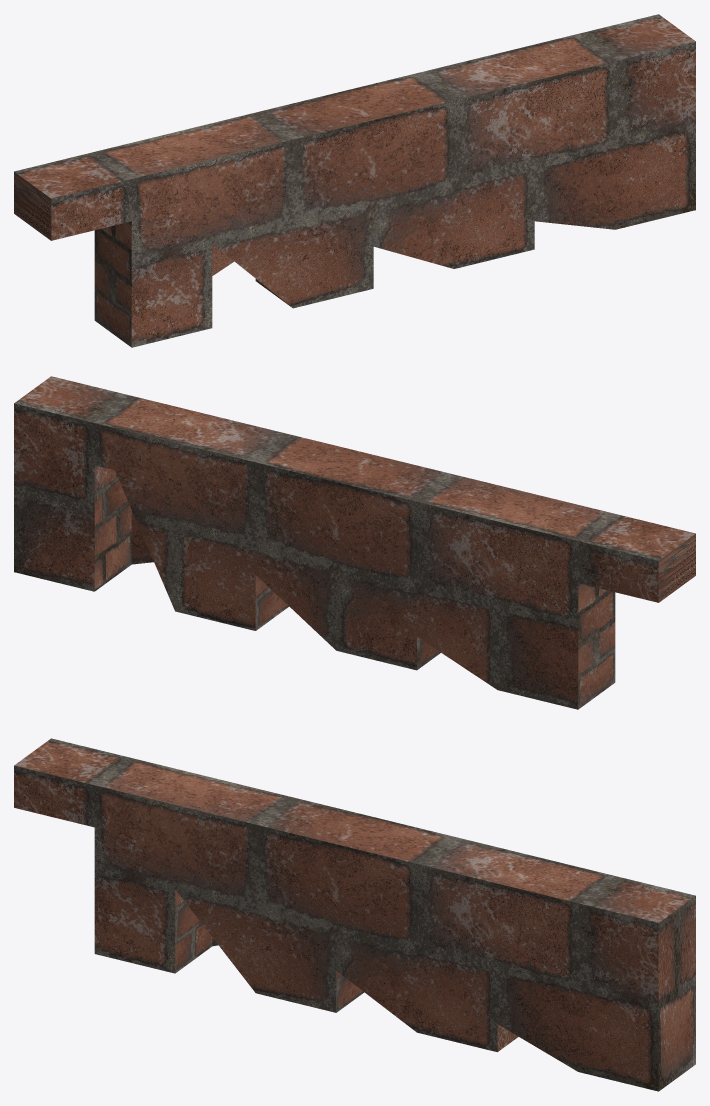
Rendered from RoofBoarder.fbx.
3 views of the same model, one above another, from view 1: azimuth 30°, elevation 25°; view 2: azimuth 150°, elevation 25°; view 3: azimuth 330°, elevation 25° (orthographic).
Visible parts, largest first — view 1: Cube; view 2: Cube; view 3: Cube.
Boxes of the visible parts, left/top/right/bottom form: Cube: left=14, top=14, right=695, bottom=347; Cube: left=14, top=376, right=695, bottom=709; Cube: left=14, top=738, right=695, bottom=1091.
Size of the model in its own units: 200 by 50 by 20.
